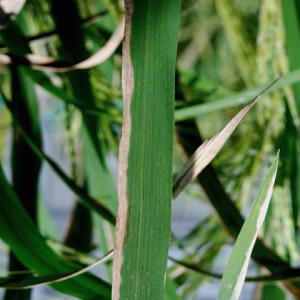2 BacterialBlight: (109, 2, 178, 298)
